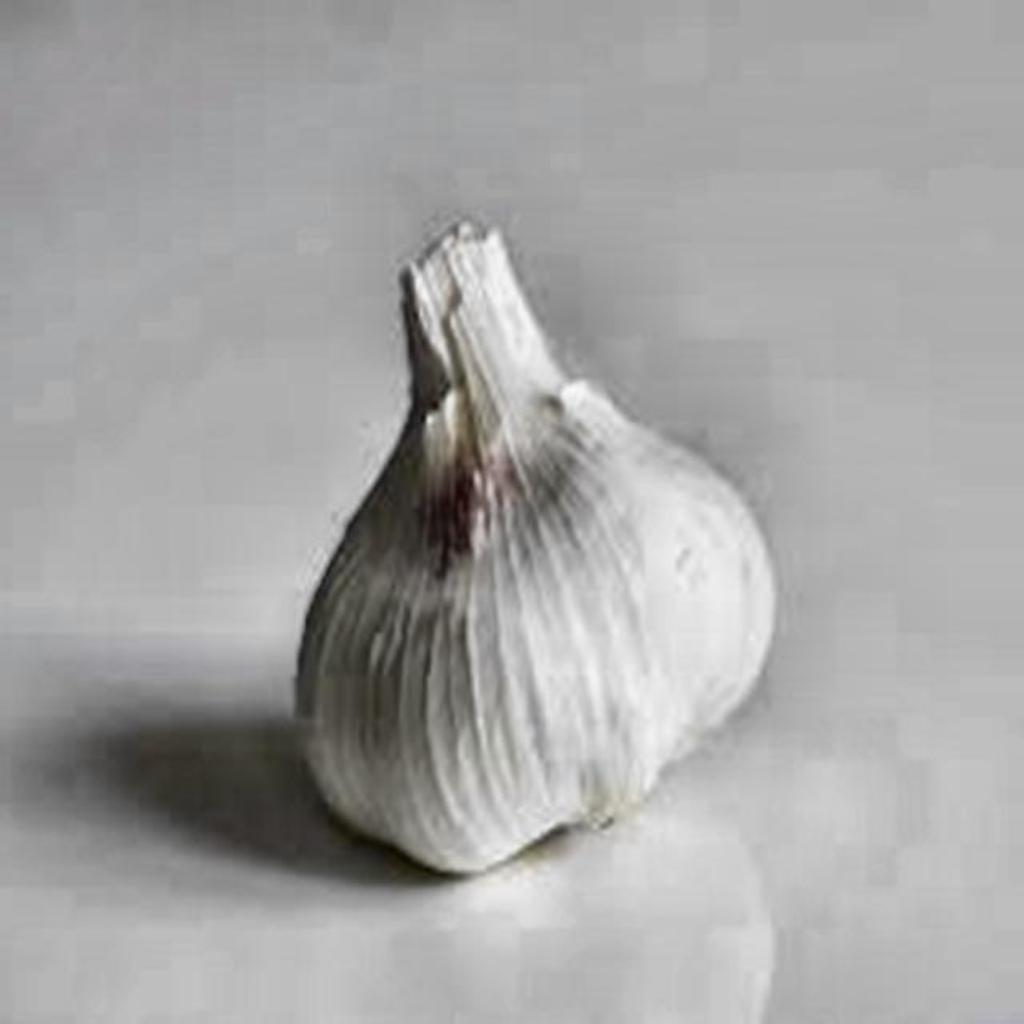garlic: (296, 220, 776, 871)
